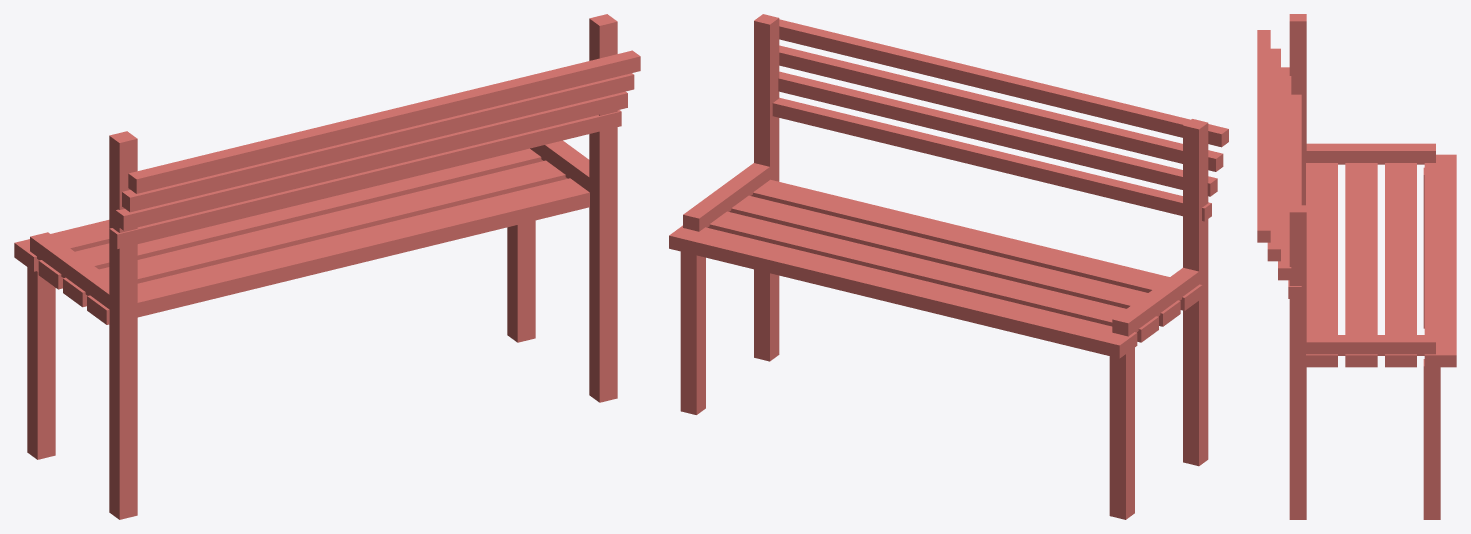
The model's file is bench.glb.
3 renders of one model, left to right at view 1: azimuth 30°, elevation 25°; view 2: azimuth 150°, elevation 25°; view 3: azimuth 270°, elevation 25°, orthographic. The views are drawn at different scales.
Visible parts, largest first — view 1: LowPoly_RedParkBench; view 2: LowPoly_RedParkBench; view 3: LowPoly_RedParkBench.
Part boxes in pixels (x1=…): LowPoly_RedParkBench: x1=14, y1=14, x2=640, y2=519; LowPoly_RedParkBench: x1=669, y1=14, x2=1228, y2=519; LowPoly_RedParkBench: x1=1257, y1=14, x2=1456, y2=519.
Size of the model in its own units: 1.26 by 0.9 by 0.5288.
